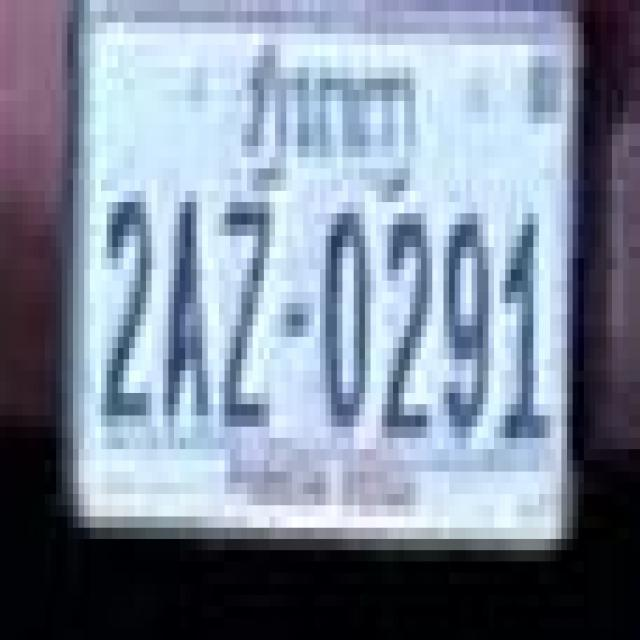Phnom_Penh: (241, 34, 412, 190)
